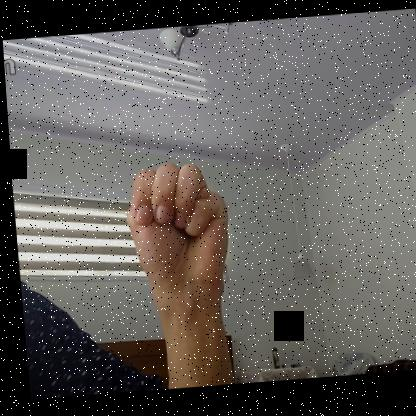M: (116, 159, 230, 300)
